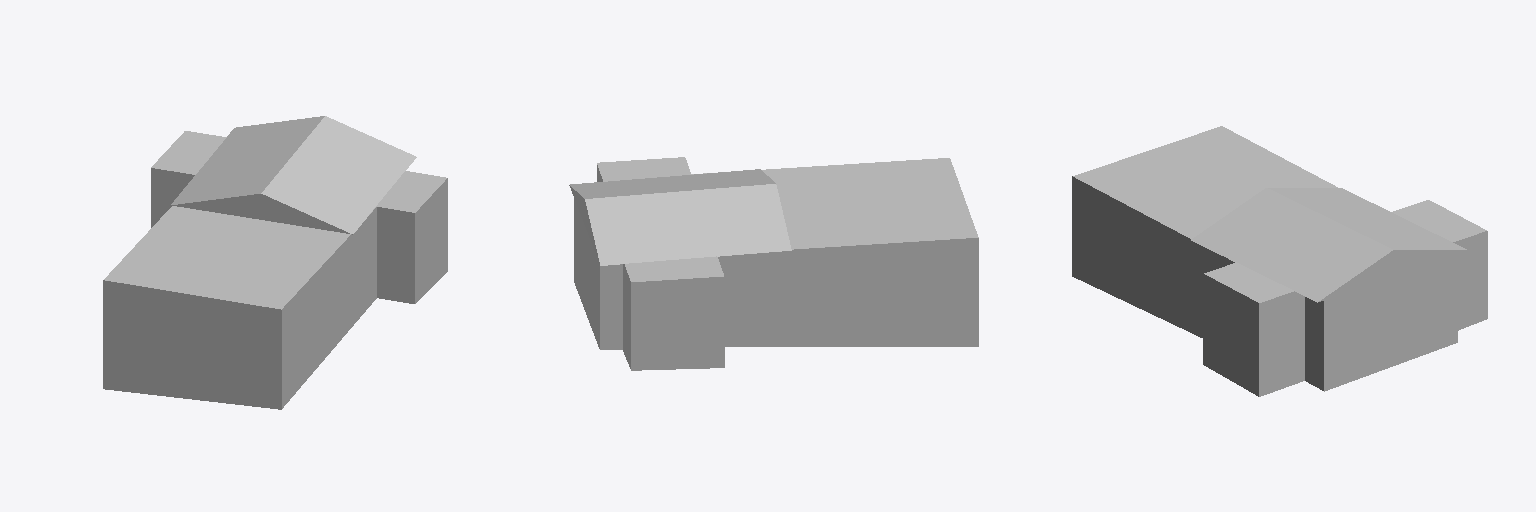
Rendered from Teatr.obj.
3 renders of one model, left to right at view 1: azimuth 30°, elevation 25°; view 2: azimuth 150°, elevation 25°; view 3: azimuth 270°, elevation 25°, orthographic.
Visible parts, largest first — view 1: Areas:building.010; view 2: Areas:building.010; view 3: Areas:building.010.
Part boxes in pixels (x1,y1,x2,y2): Areas:building.010: (103, 116, 447, 409); Areas:building.010: (569, 157, 978, 370); Areas:building.010: (1072, 126, 1487, 396).
Bounding box in the file's own units: 129 × 45.96 × 128.